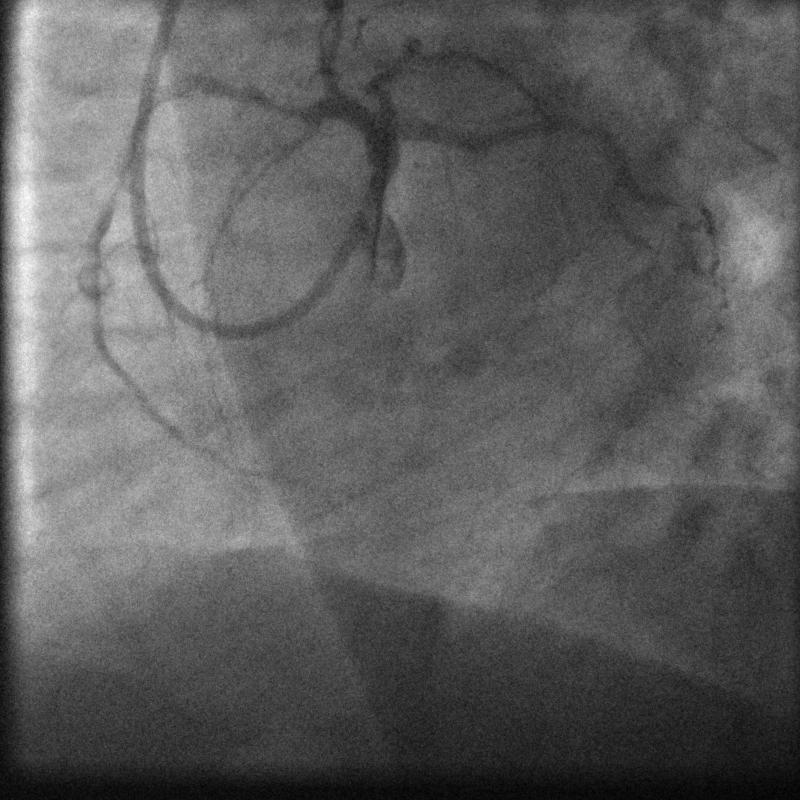Stenosis: (249, 83, 329, 130)
